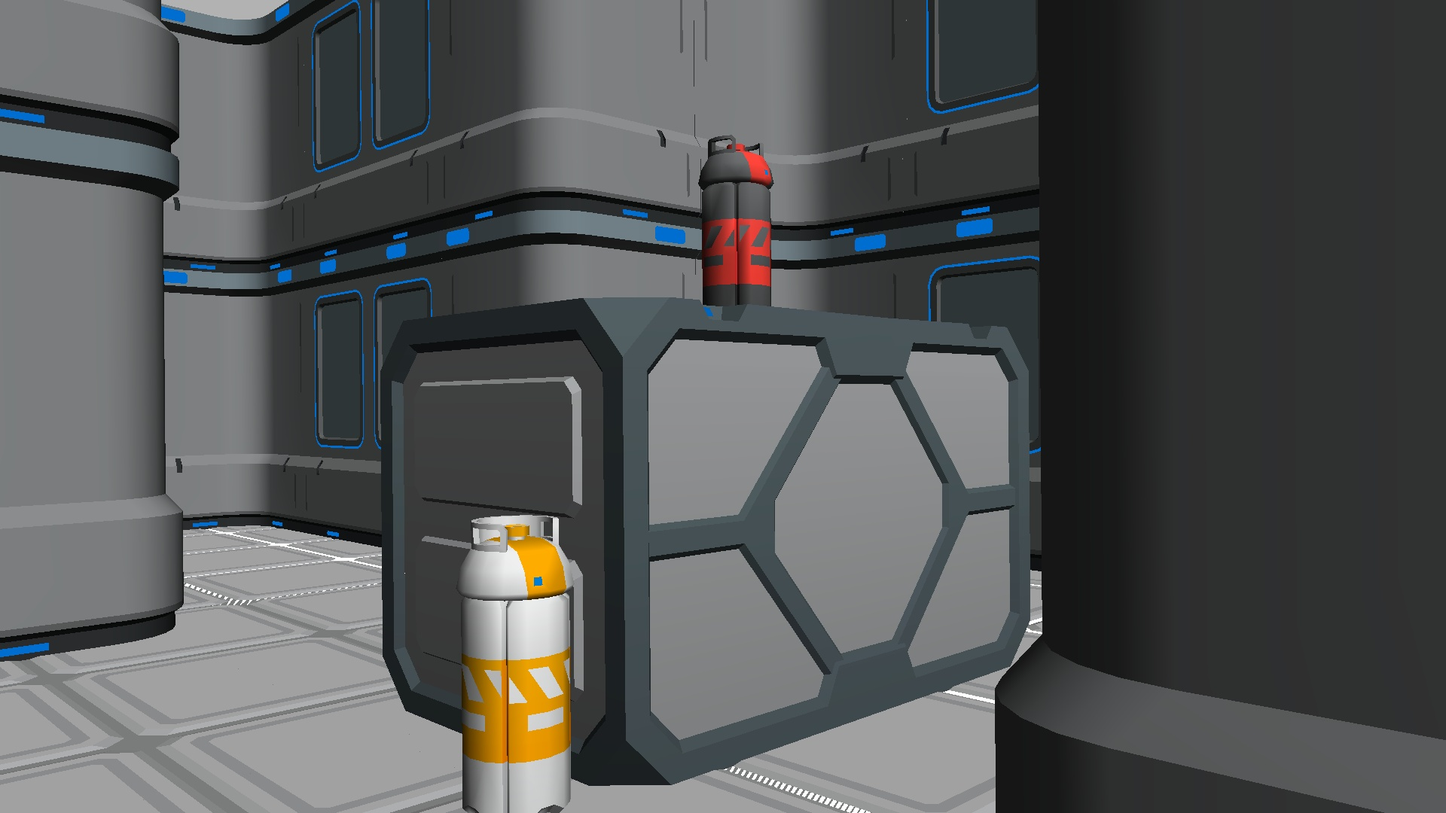red barrel: (698, 134, 774, 306)
yellow barrel: (456, 516, 584, 813)
